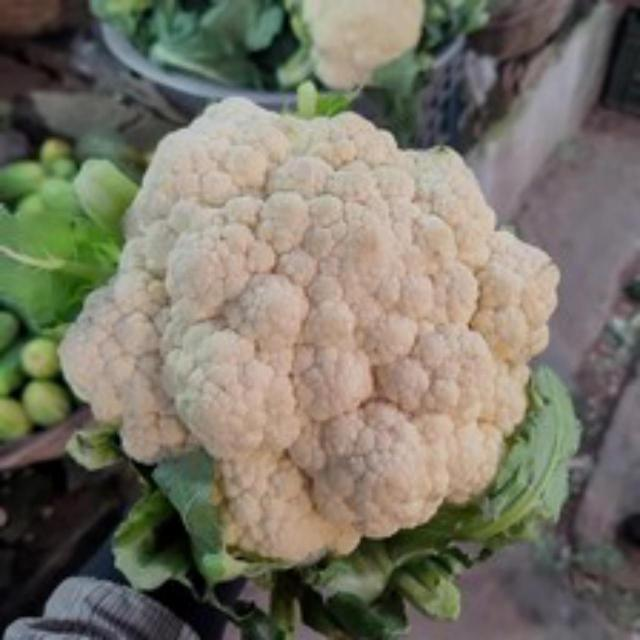cauliflower: (56, 93, 568, 578)
